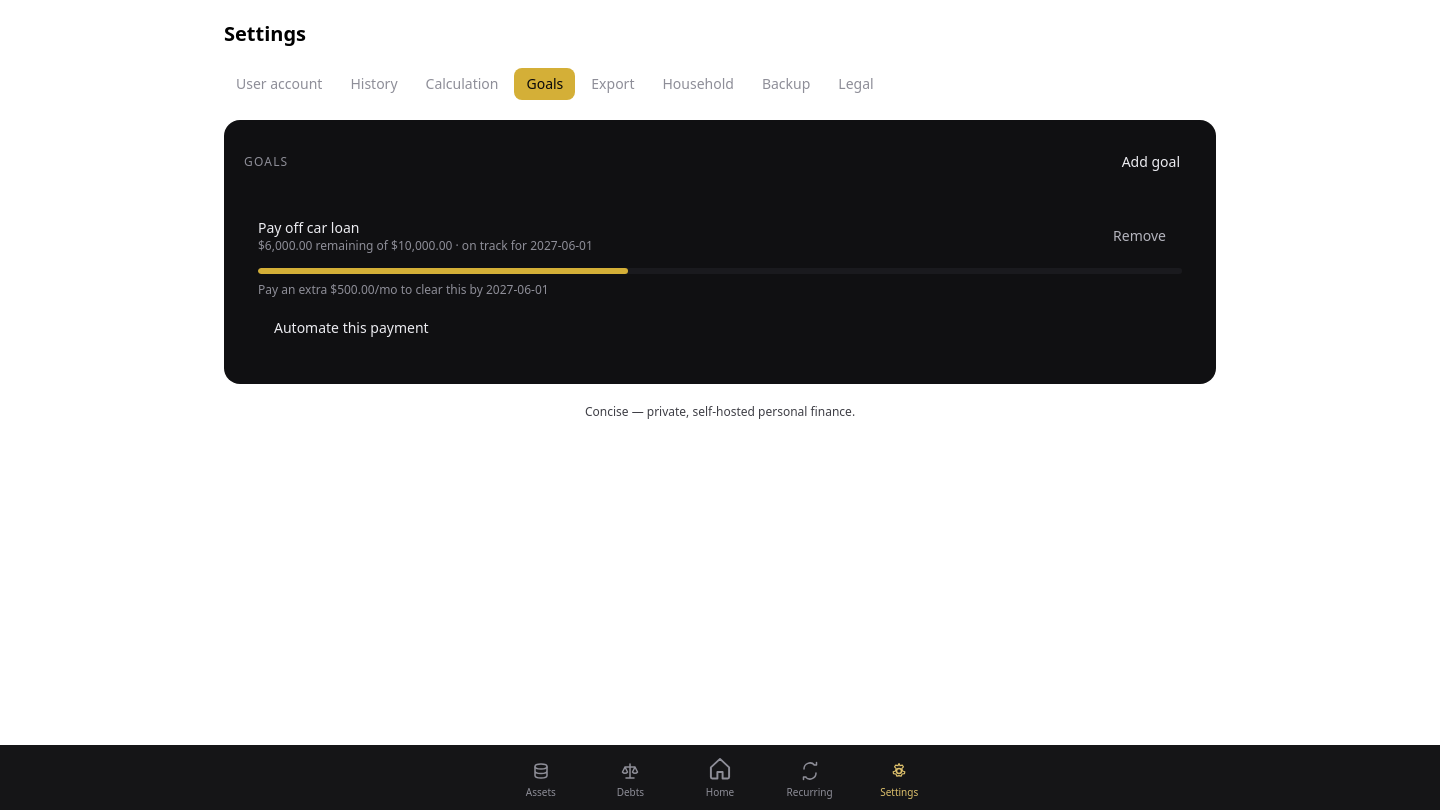
goal funding suggestion › automates the payoff payment with a one-click recurring schedule
Click the button "Automate this payment" at (351, 328), box x1=258 y1=306 x2=445 y2=350
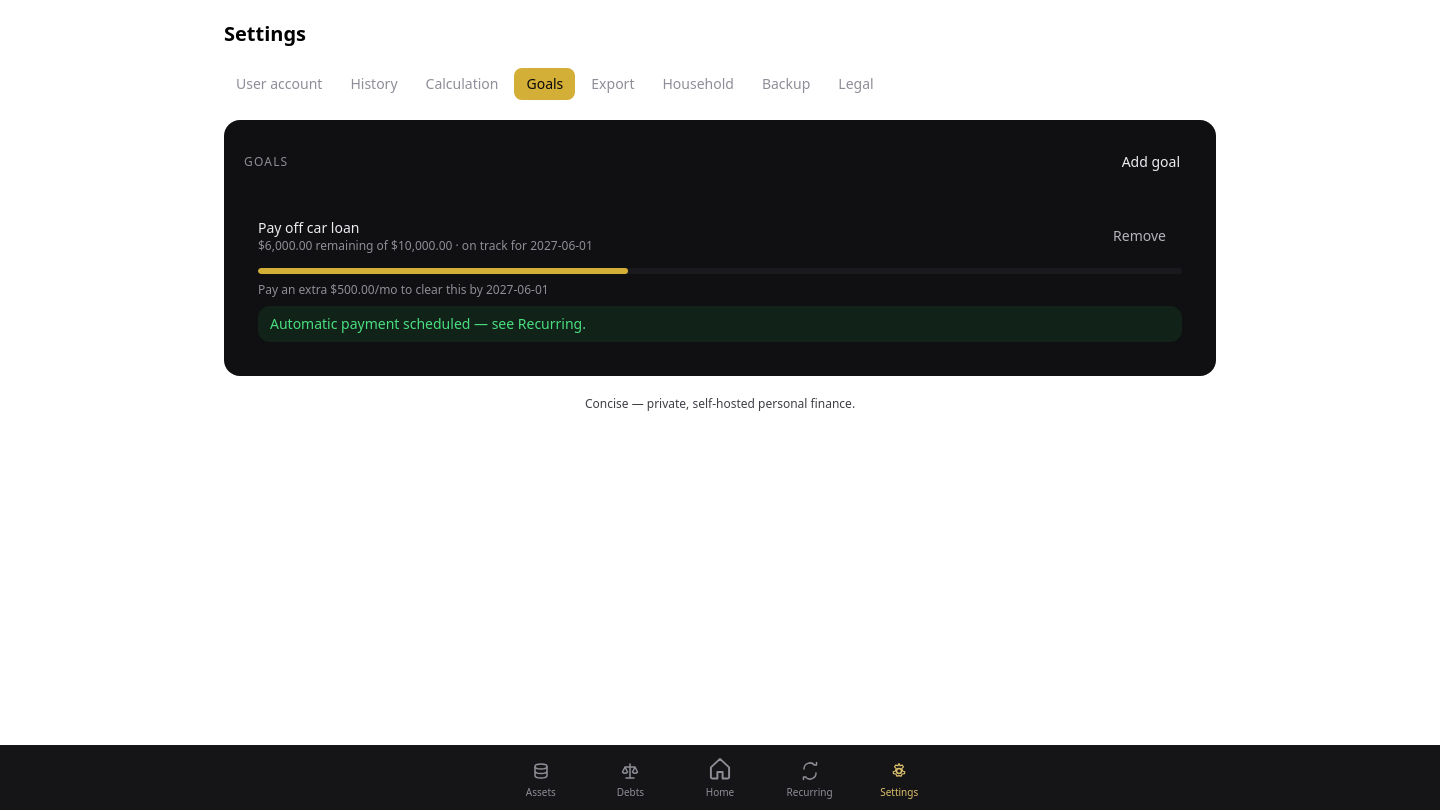
expect the text "Automatic payment scheduled — see Recurring." is shown: met, box x1=258 y1=306 x2=1182 y2=342
expect the button "Automate this payment" is gone: met
